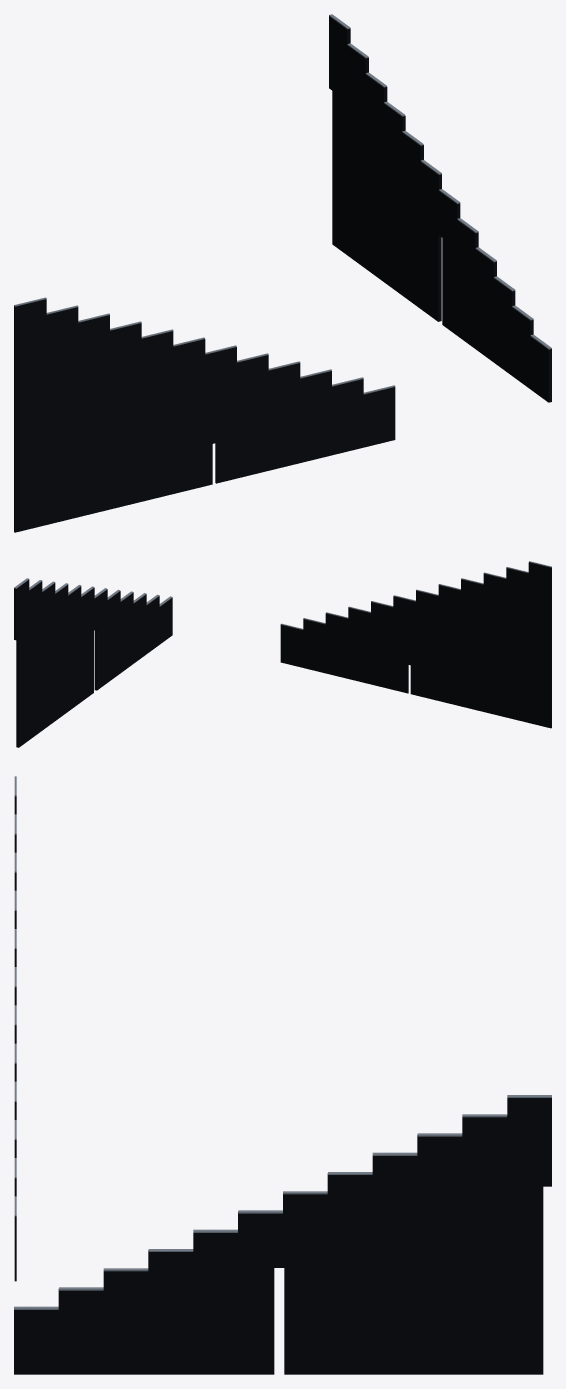
File: tt_struct_f3_corner_cheeks_sw.glb
3 views of the same model, one above another, from view 1: azimuth 30°, elevation 25°; view 2: azimuth 150°, elevation 25°; view 3: azimuth 270°, elevation 25° (orthographic). The views are drawn at different scales.
Visible parts, largest first — view 1: Cheek_Wall, Cheek_Cap; view 2: Cheek_Wall, Cheek_Cap; view 3: Cheek_Wall, Cheek_Cap.
Part boxes in pixels (left/top/right/bottom): Cheek_Wall: left=14, top=16, right=551, bottom=532; Cheek_Cap: left=14, top=14, right=551, bottom=394; Cheek_Wall: left=14, top=562, right=551, bottom=747; Cheek_Cap: left=14, top=561, right=551, bottom=629; Cheek_Wall: left=14, top=796, right=551, bottom=1374; Cheek_Cap: left=14, top=776, right=551, bottom=1309.
Size of what is drawn, in the model's own units: 16.08 by 6.5 by 11.4.
Materials: 2 (2 with a texture image).
